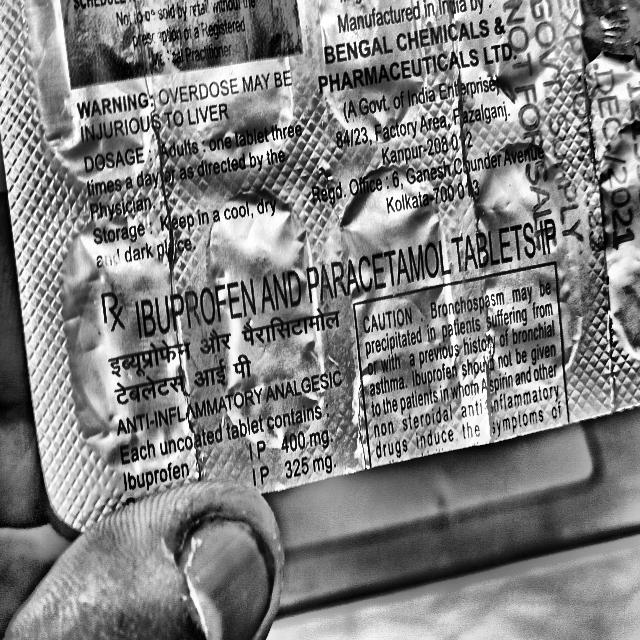IBUPROFEN AND PARACETAMOL TABLETS: (129, 204, 586, 353)
